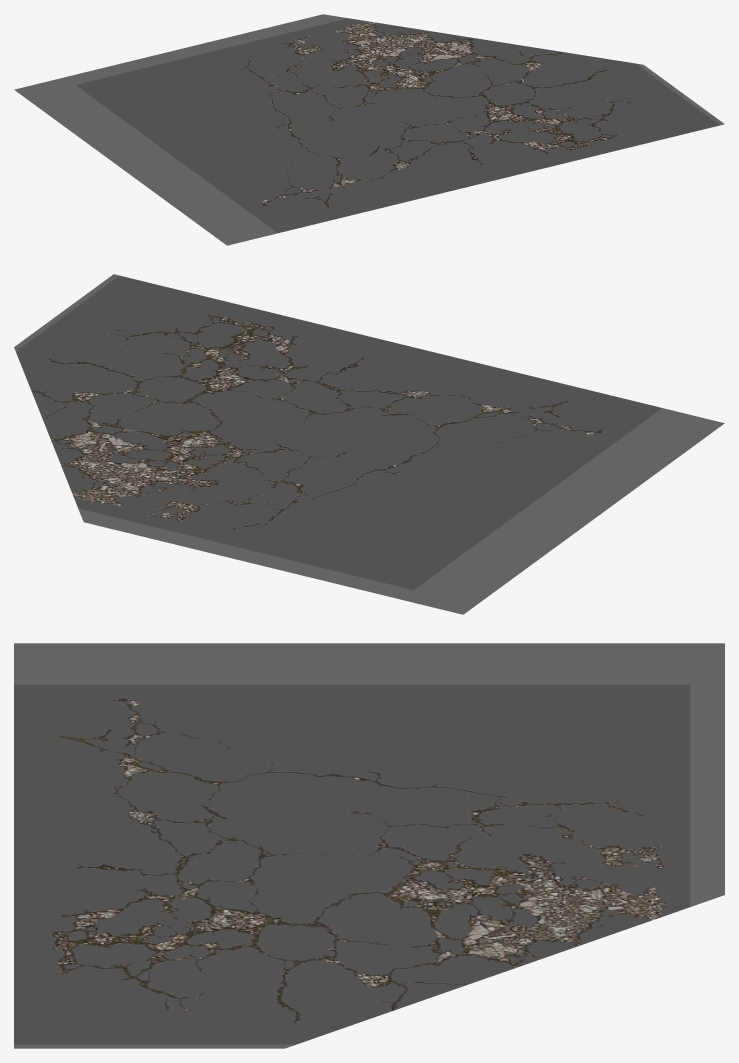
File: Road_Decal_02.fbx
3 renders of one model, top to bottom at view 1: azimuth 30°, elevation 25°; view 2: azimuth 150°, elevation 25°; view 3: azimuth 270°, elevation 25°, orthographic. The views are drawn at different scales.
Visible parts, largest first — view 1: Road_Decal_02; view 2: Road_Decal_02; view 3: Road_Decal_02.
Boxes of the visible parts, <box> form: Road_Decal_02: <box>14,14,724,245</box>; Road_Decal_02: <box>14,274,724,614</box>; Road_Decal_02: <box>14,643,724,1048</box>.
Size of the model in its own units: 264 by 0 by 196.
